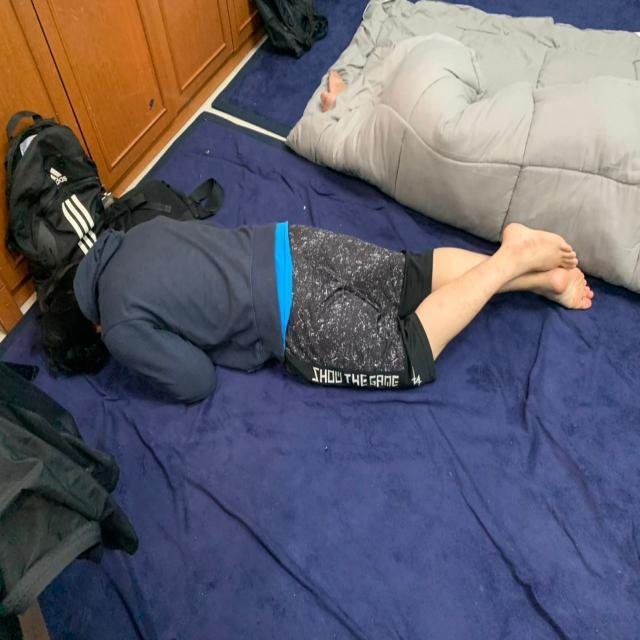fall: (41, 215, 596, 408)
